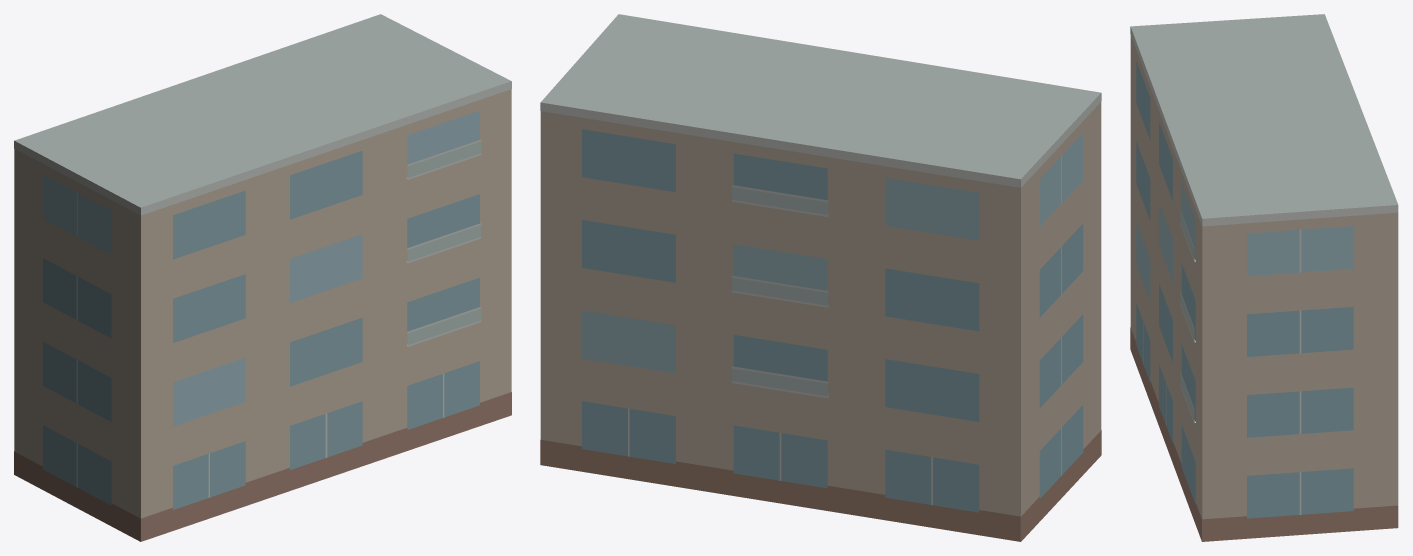
The model's file is survey-upis-32819010.glb.
The picture shows the model from 3 angles, left to right: view 1: azimuth 30°, elevation 25°; view 2: azimuth 150°, elevation 25°; view 3: azimuth 270°, elevation 25°; orthographic projection. The views are drawn at different scales.
Parts seen in each view (by area): view 1: survey-upis-32819010.tmp; view 2: survey-upis-32819010.tmp; view 3: survey-upis-32819010.tmp.
Part boxes in pixels (left/top/right/bottom): survey-upis-32819010.tmp: left=14, top=14, right=511, bottom=541; survey-upis-32819010.tmp: left=540, top=14, right=1101, bottom=541; survey-upis-32819010.tmp: left=1130, top=14, right=1398, bottom=541.
Bounding box in the file's own units: 14.01 × 10.3 × 7.75.
